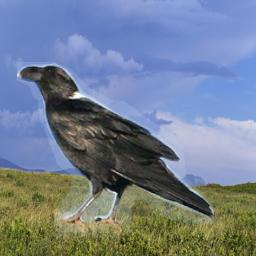Crow: (17, 62, 214, 241)
